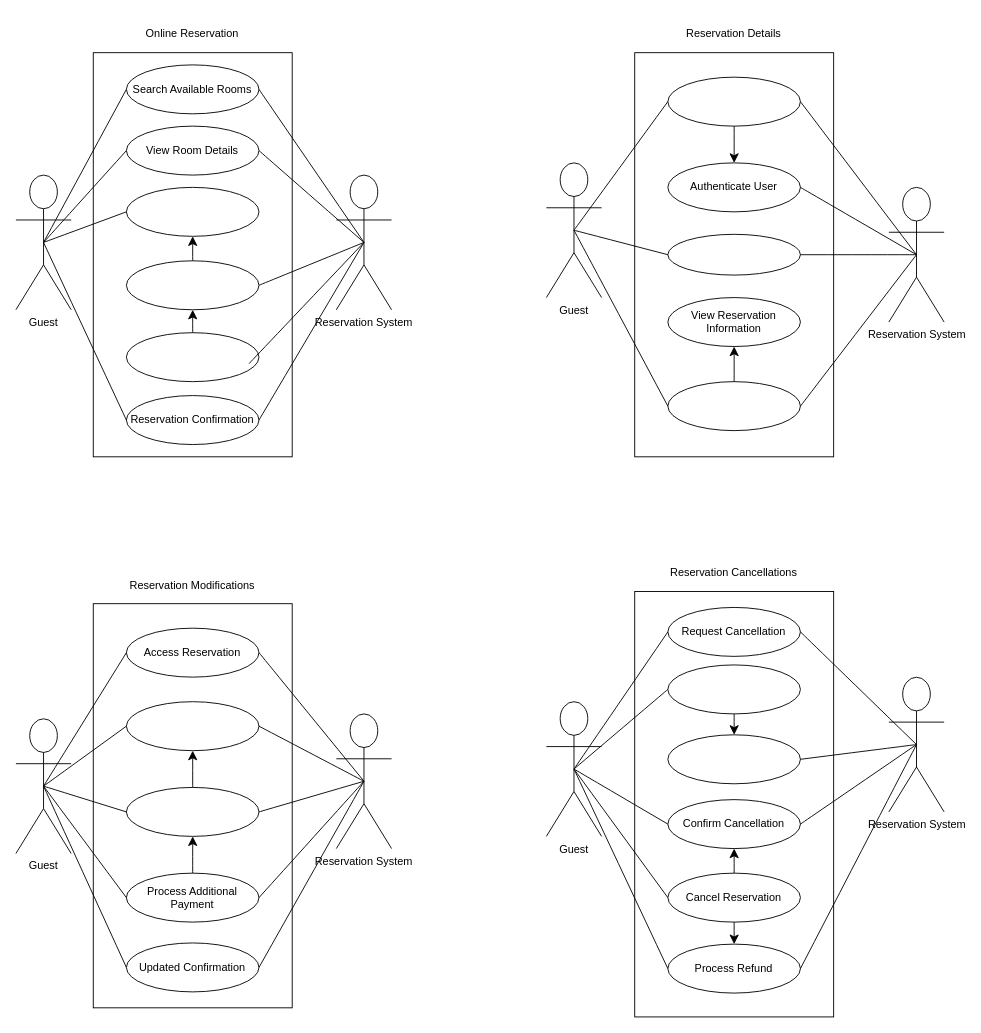
Some shapes in this 981 by 1033 pixel diagram are drawn without their labels. Each missing label, with the box of its shape:
Access Account: (667, 76, 800, 126)
Add Booking Reference: (667, 664, 800, 714)
Check Validity: (667, 734, 800, 784)
Enter Guest information: (125, 186, 259, 236)
Make Reservation: (125, 260, 259, 310)
Modify Reservation: (125, 787, 259, 836)
Print Reservation: (667, 381, 800, 431)
Process Payment: (125, 332, 259, 382)
Retrieve Reservation Details: (667, 233, 800, 275)
Update Booking Details: (125, 701, 259, 751)
